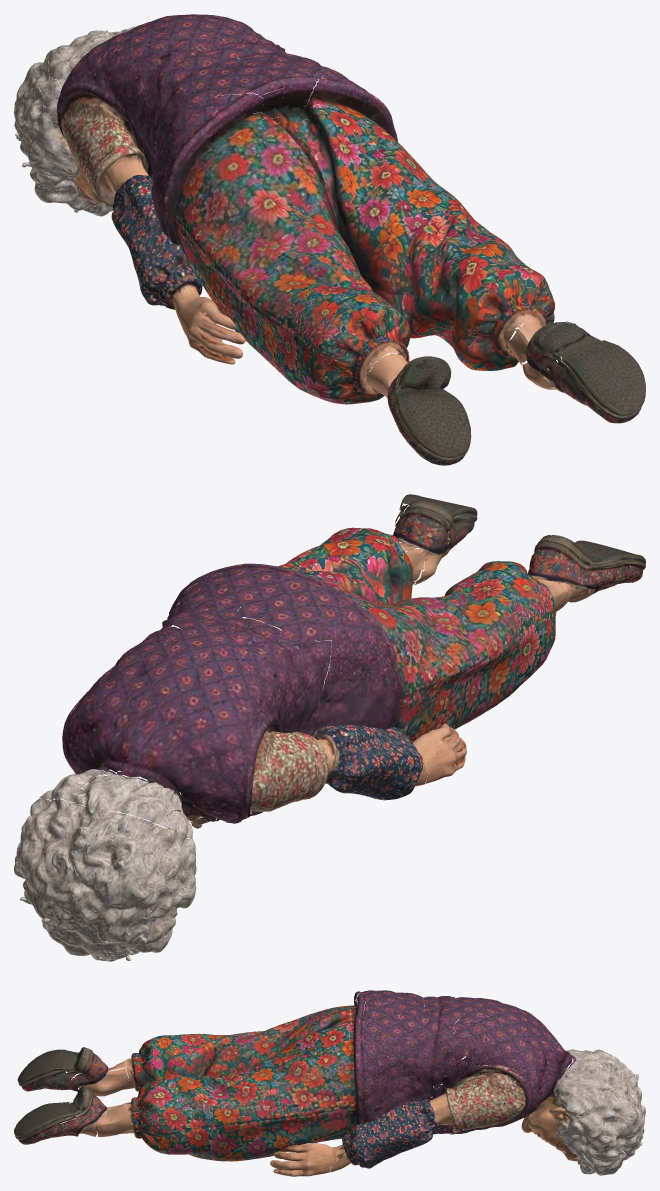
Rendered from patient13.glb.
3 renders of one model, top to bottom at view 1: azimuth 30°, elevation 25°; view 2: azimuth 150°, elevation 25°; view 3: azimuth 270°, elevation 25°, orthographic. The views are drawn at different scales.
Parts seen in each view (by area): view 1: back_patient_skin; view 2: back_patient_skin; view 3: back_patient_skin.
Part boxes in pixels (<box>): back_patient_skin: <box>14,14,645,465</box>; back_patient_skin: <box>14,494,645,961</box>; back_patient_skin: <box>14,990,645,1176</box>.
Bounding box in the file's own units: 0.5142 × 0.4717 × 1.57.
1 material, 1 textured.
